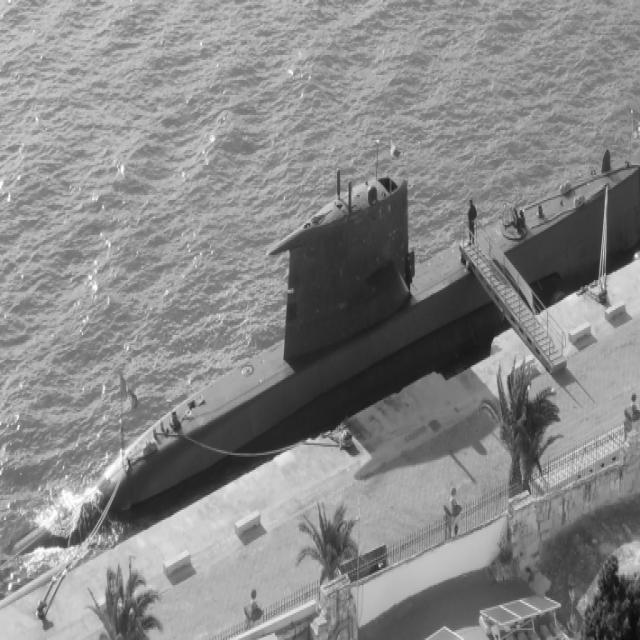submarine: (8, 133, 640, 571)
